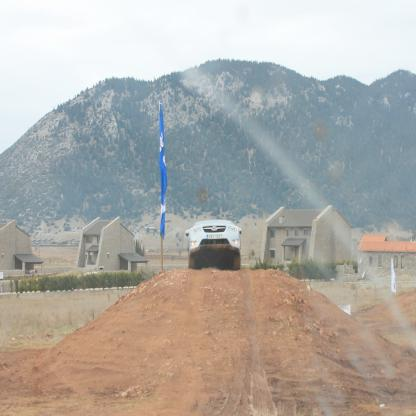Car: (184, 213, 248, 272)
